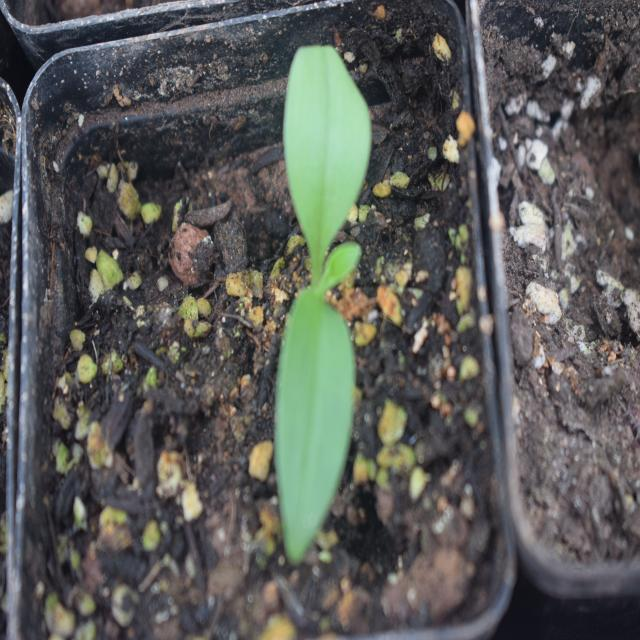Common Dayflower: (249, 29, 394, 529)
